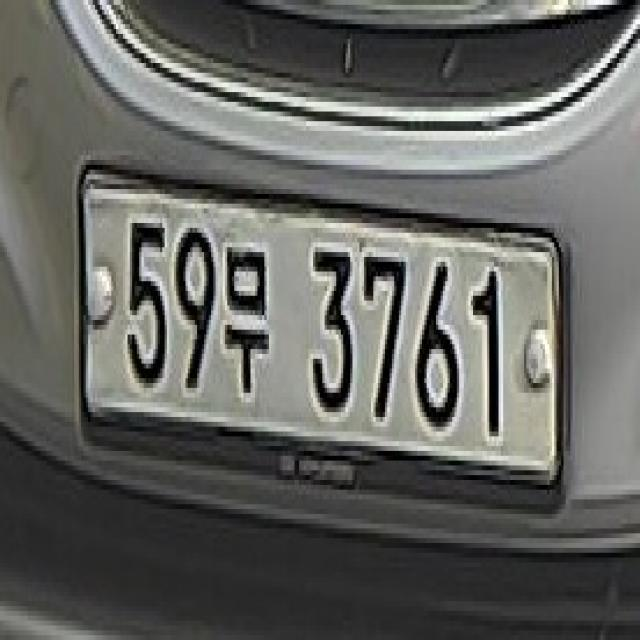1: (466, 261, 506, 443)
3: (308, 232, 356, 422)
5: (120, 206, 170, 392)
6: (412, 254, 464, 436)
7: (359, 240, 409, 429)
9: (172, 208, 219, 398)
license_plate: (68, 144, 587, 548)
mu: (224, 222, 272, 406)
